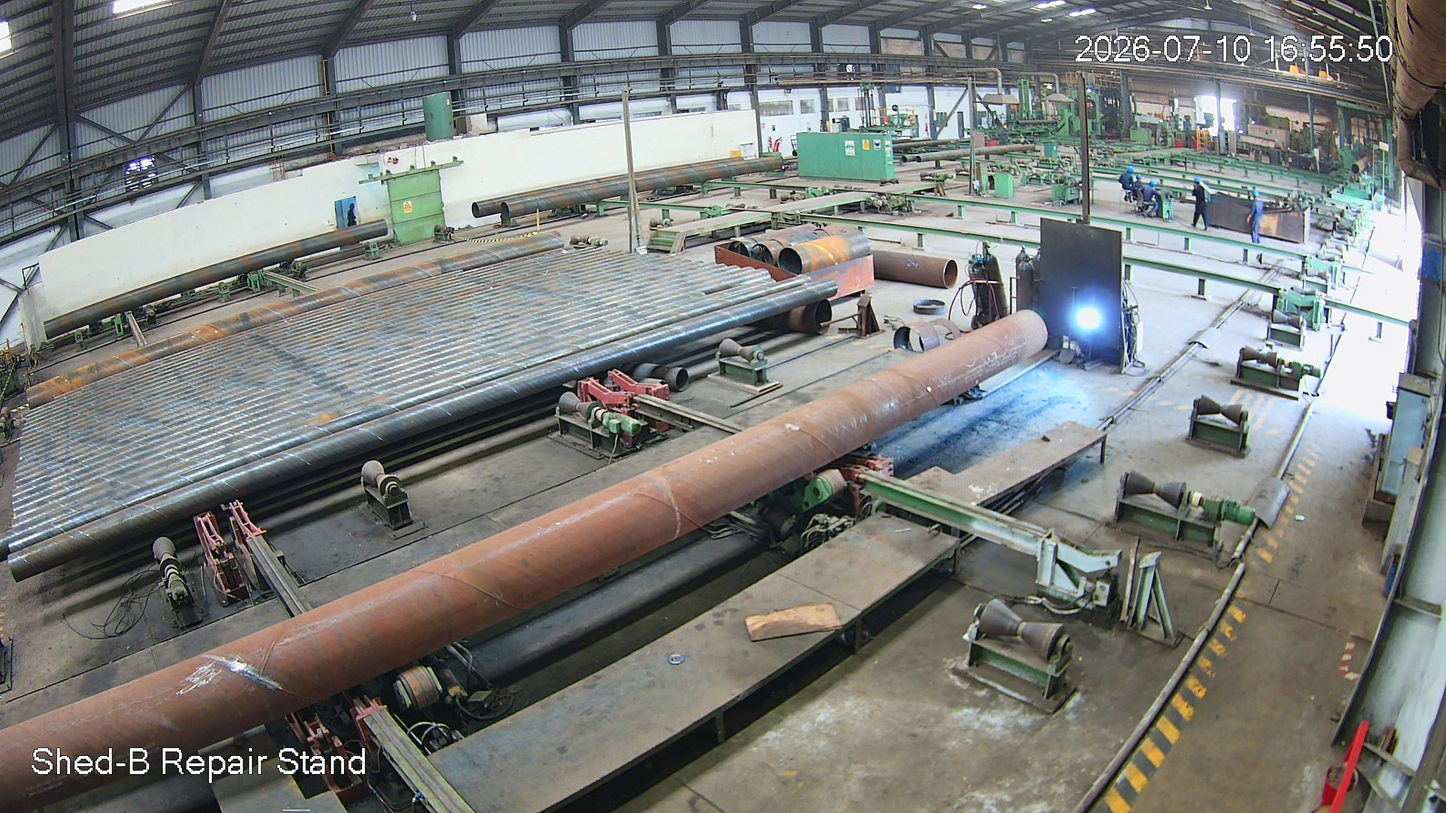Helmet: (1250, 188, 1263, 202), (1194, 177, 1205, 188)
Person: (1191, 177, 1213, 231), (1247, 189, 1265, 245)
